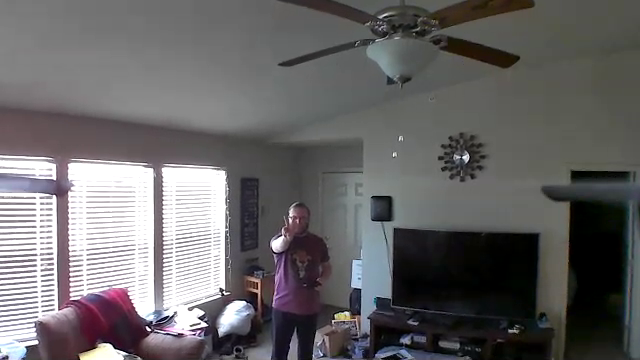peace: (275, 213, 301, 246)
